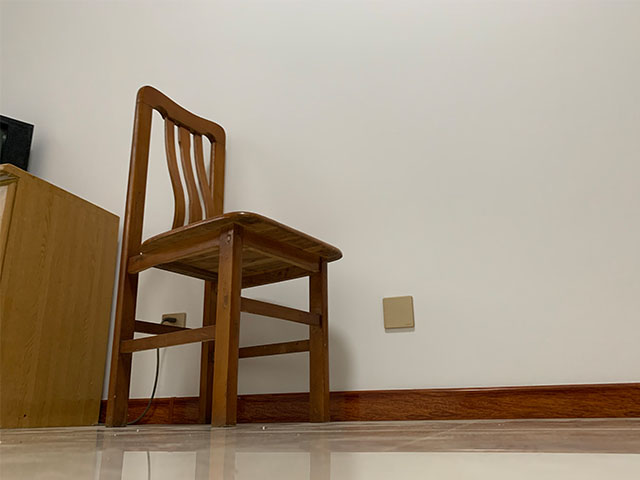cabinet: (1, 161, 121, 429)
stool: (102, 82, 344, 428)
wire: (94, 315, 177, 426)
